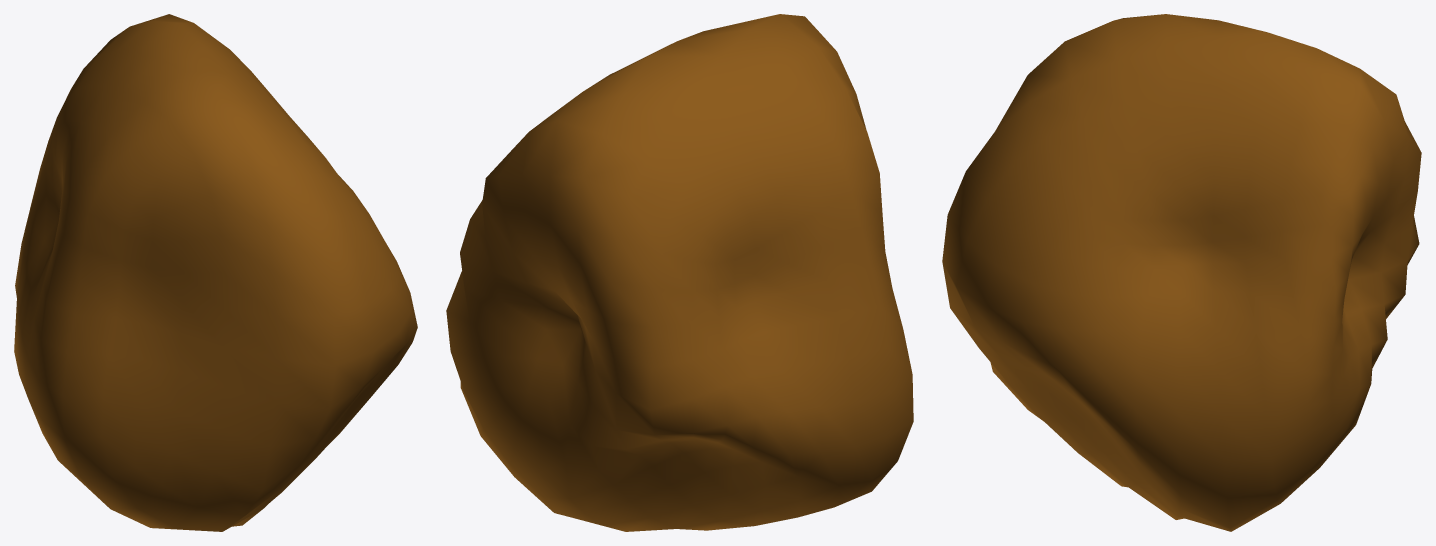
The model's file is stone.fbx.
3 renders of one model, left to right at view 1: azimuth 30°, elevation 25°; view 2: azimuth 150°, elevation 25°; view 3: azimuth 270°, elevation 25°, orthographic. The views are drawn at different scales.
Visible parts, largest first — view 1: Cube.003; view 2: Cube.003; view 3: Cube.003.
Boxes of the visible parts, x1,y1,x2,y2 form: Cube.003: (14,14,417,531); Cube.003: (446,14,913,531); Cube.003: (942,14,1421,531).
Size of the model in its own units: 151 by 191 by 178.
